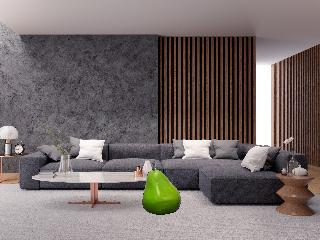pear: (142, 162, 180, 215)
